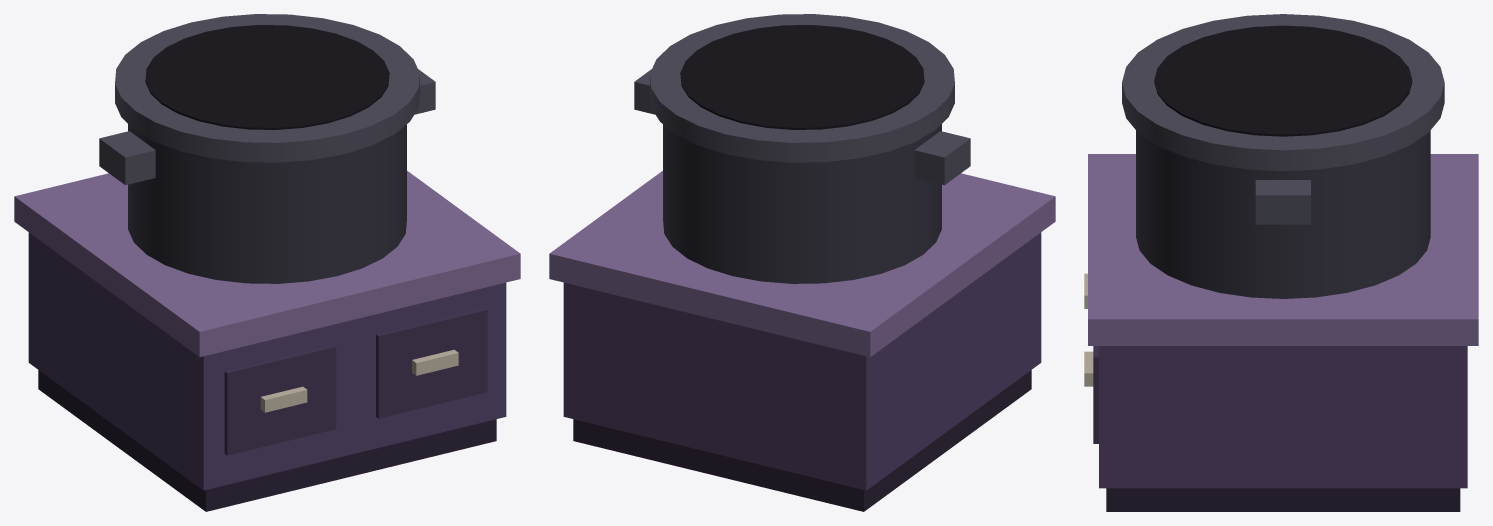
File: k_mire_cauldron.glb
3 views of the same model, side by side, from view 1: azimuth 30°, elevation 25°; view 2: azimuth 150°, elevation 25°; view 3: azimuth 270°, elevation 25° (orthographic). The views are drawn at different scales.
Parts seen in each view (by area): view 1: piece; view 2: piece; view 3: piece.
Boxes of the visible parts, <box> form: piece: <box>14,14,520,511</box>; piece: <box>549,14,1055,511</box>; piece: <box>1084,14,1478,511</box>.
Size of the model in its own units: 1.06 by 1.07 by 1.07.
